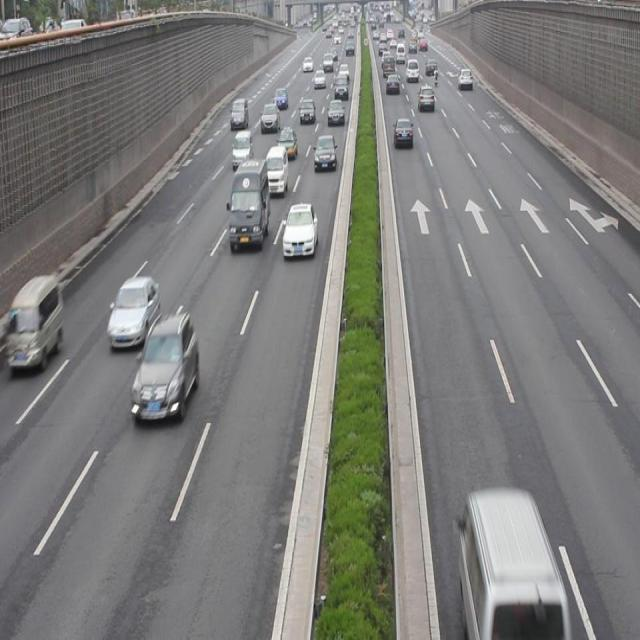car: (131, 312, 198, 419), (108, 274, 159, 351), (283, 202, 317, 260), (313, 134, 336, 172), (229, 96, 249, 130), (276, 125, 296, 158), (260, 102, 280, 134), (393, 116, 412, 148)
truck: (456, 488, 568, 640), (12, 276, 63, 370), (228, 157, 268, 250), (264, 146, 288, 194), (231, 127, 253, 169)
